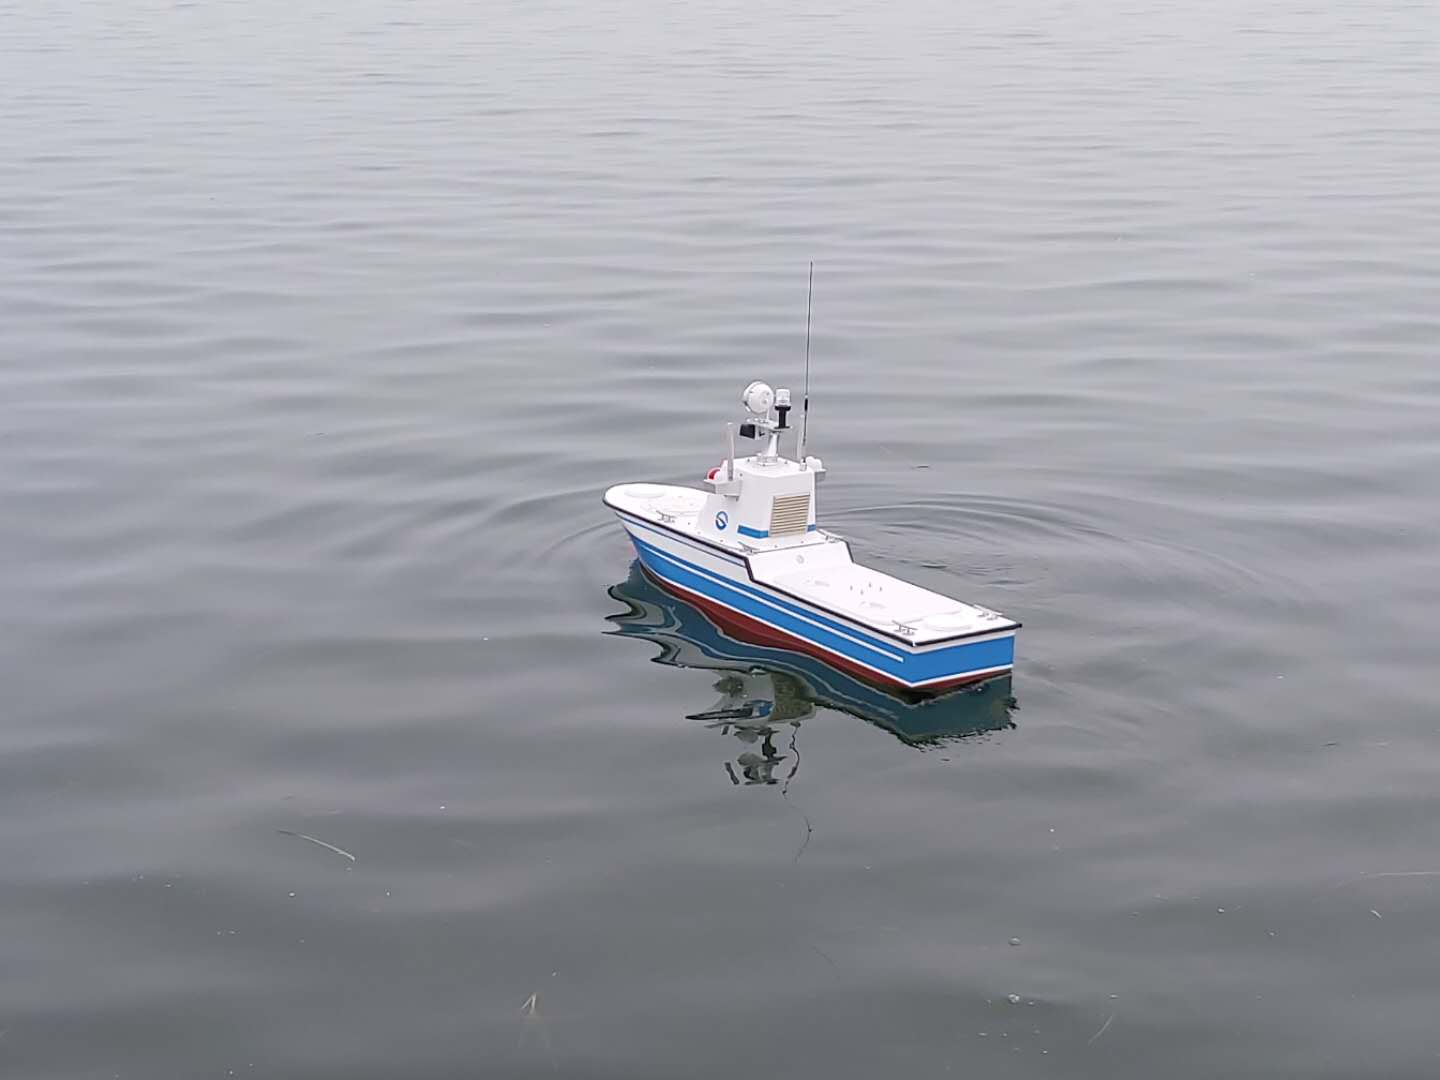boat: (583, 378, 1039, 715)
